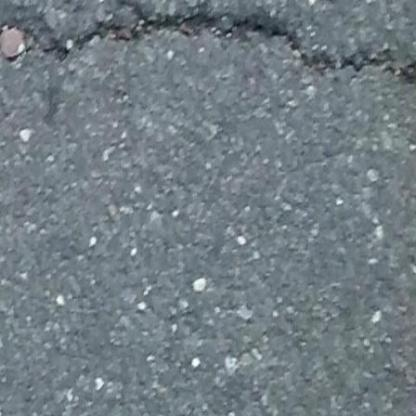Cracks: (0, 0, 416, 102)
